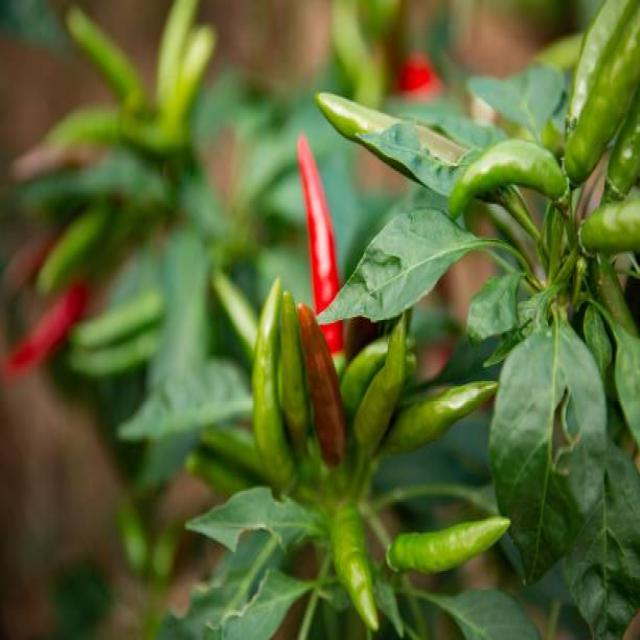Unripe: (559, 5, 639, 188), (247, 281, 302, 505), (380, 375, 507, 463), (449, 140, 566, 220), (353, 304, 412, 449), (296, 306, 347, 469), (387, 519, 511, 574), (332, 515, 379, 631), (283, 289, 314, 461), (577, 188, 640, 259), (316, 94, 399, 146)
